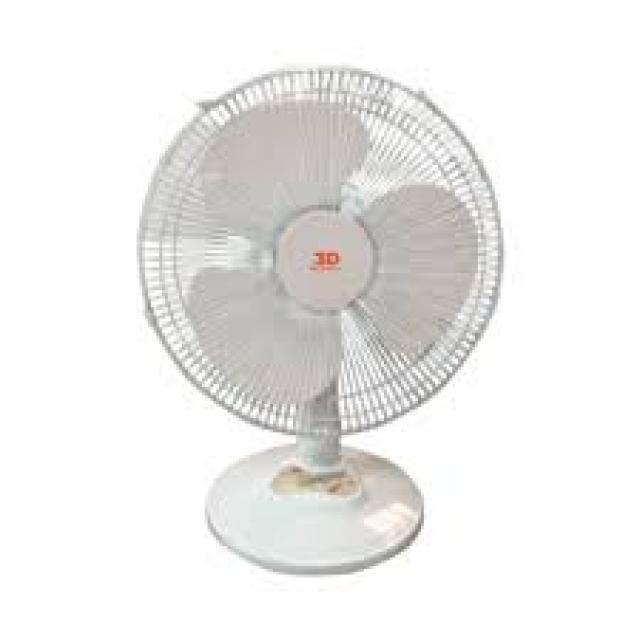fan: (126, 46, 524, 610)
